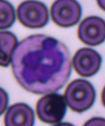N: (11, 34, 70, 93)
